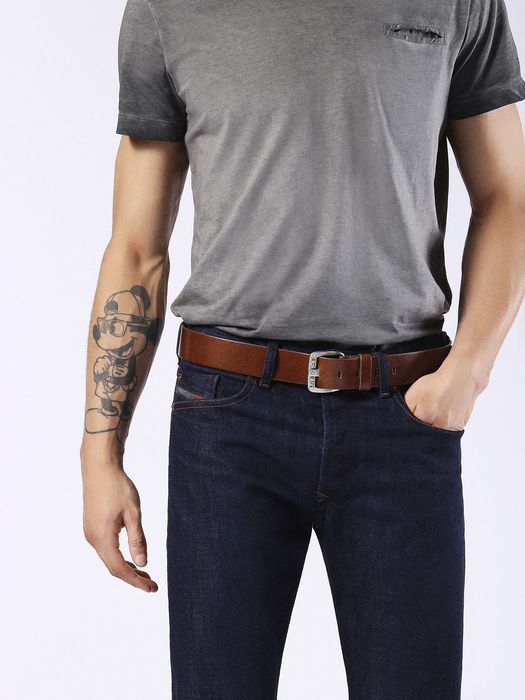C_jeans: (171, 317, 470, 694)
F_belt: (172, 324, 455, 395)
